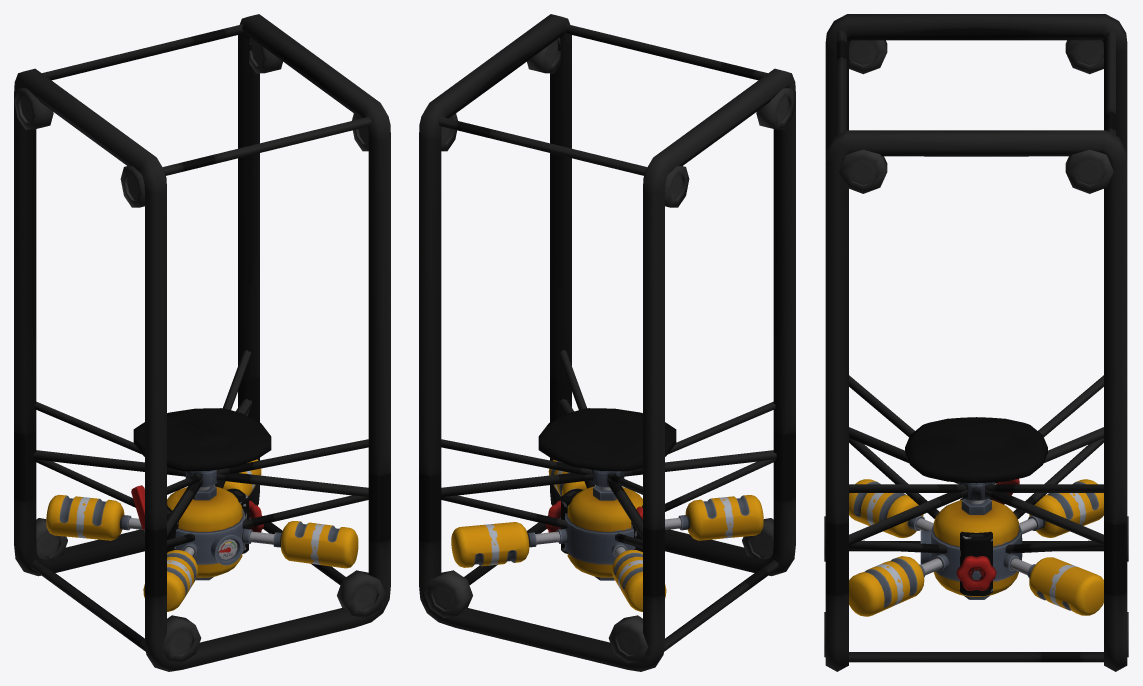
The model's file is fant_chemical_lift_engine_1.obj.
The picture shows the model from 3 angles, left to right: view 1: azimuth 30°, elevation 25°; view 2: azimuth 150°, elevation 25°; view 3: azimuth 270°, elevation 25°; orthographic projection. The views are drawn at different scales.
Parts seen in each view (by area): view 1: fant_chemical_lift_engine_Mesh.008; view 2: fant_chemical_lift_engine_Mesh.008; view 3: fant_chemical_lift_engine_Mesh.008.
Part boxes in pixels (box(x1,y1,x2,y2)): fant_chemical_lift_engine_Mesh.008: box(14, 14, 390, 671); fant_chemical_lift_engine_Mesh.008: box(419, 14, 795, 671); fant_chemical_lift_engine_Mesh.008: box(824, 14, 1128, 671).
Bounding box in the file's own units: 4.03 × 8 × 4.03.
